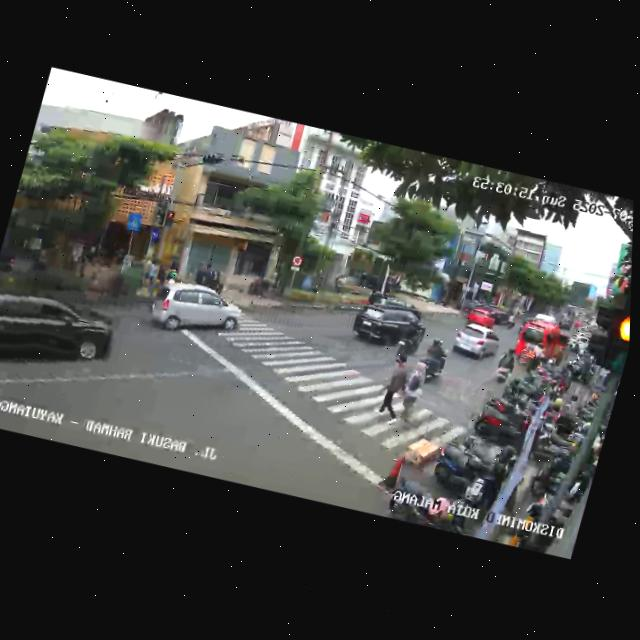car: (0, 276, 124, 398), (143, 272, 246, 350), (347, 293, 429, 358), (510, 318, 572, 373), (448, 320, 504, 367), (364, 288, 425, 324)
motorcycle: (415, 335, 452, 387), (491, 344, 518, 387)
person: (372, 352, 412, 421), (395, 359, 431, 430)
